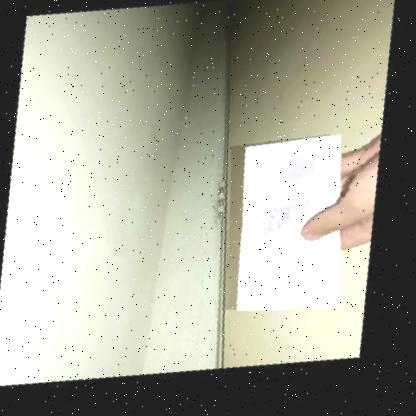two_hundred-back-vef: (210, 121, 383, 336)
